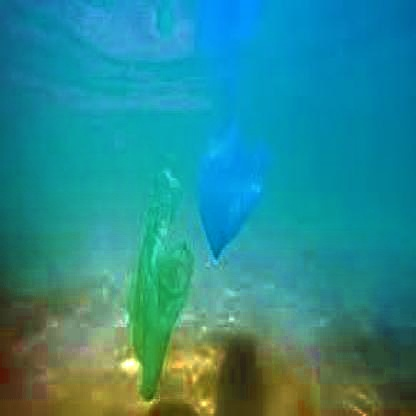pbag: (129, 161, 196, 404), (190, 116, 267, 262)
